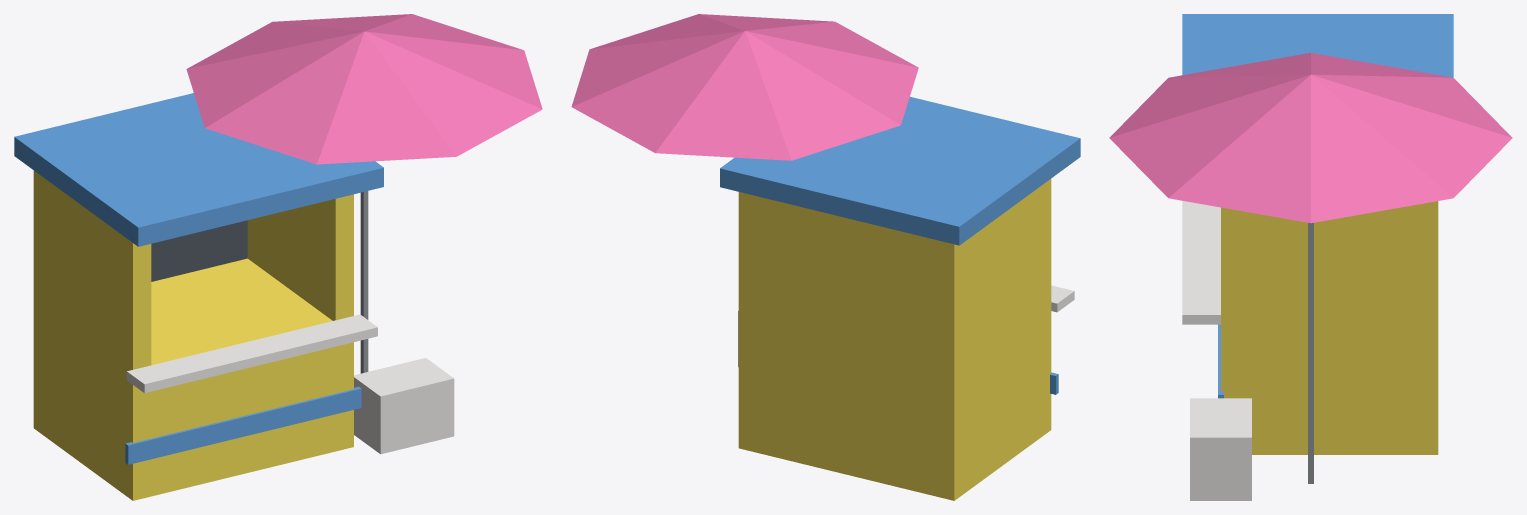
Rendered from fv_kiosk.glb.
3 renders of one model, left to right at view 1: azimuth 30°, elevation 25°; view 2: azimuth 150°, elevation 25°; view 3: azimuth 270°, elevation 25°, orthographic. The views are drawn at different scales.
Visible parts, largest first — view 1: fv_kiosk; view 2: fv_kiosk; view 3: fv_kiosk.
Part boxes in pixels (box(x1,y1,x2,y2)): fv_kiosk: box(14, 14, 542, 500); fv_kiosk: box(571, 14, 1080, 500); fv_kiosk: box(1109, 14, 1512, 500).
Size of the model in its own units: 3.62 by 2.9 by 2.6.
